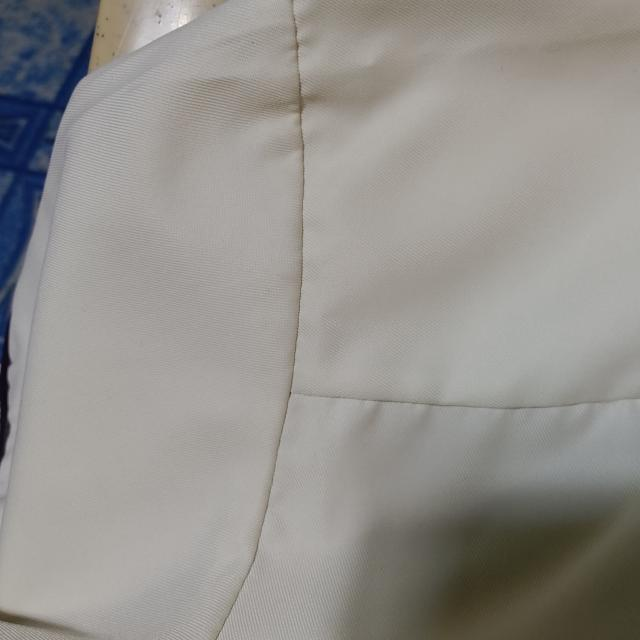education_male_uniform: (0, 0, 303, 627), (12, 412, 634, 640), (311, 0, 640, 407)
